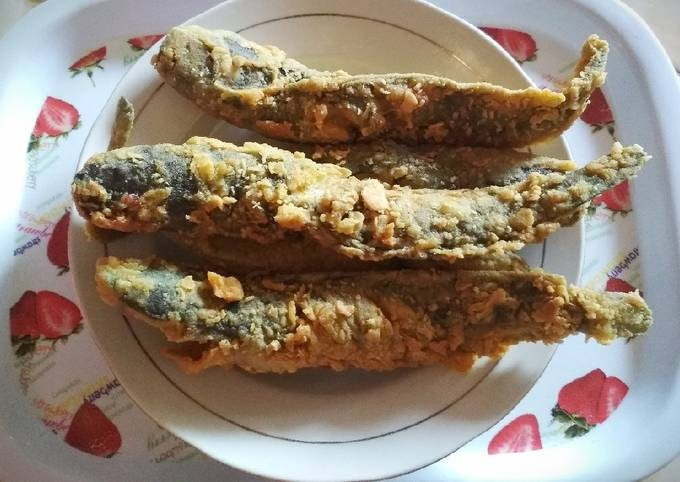pecel_lele: (54, 133, 652, 264), (146, 15, 617, 146), (71, 260, 656, 363)
